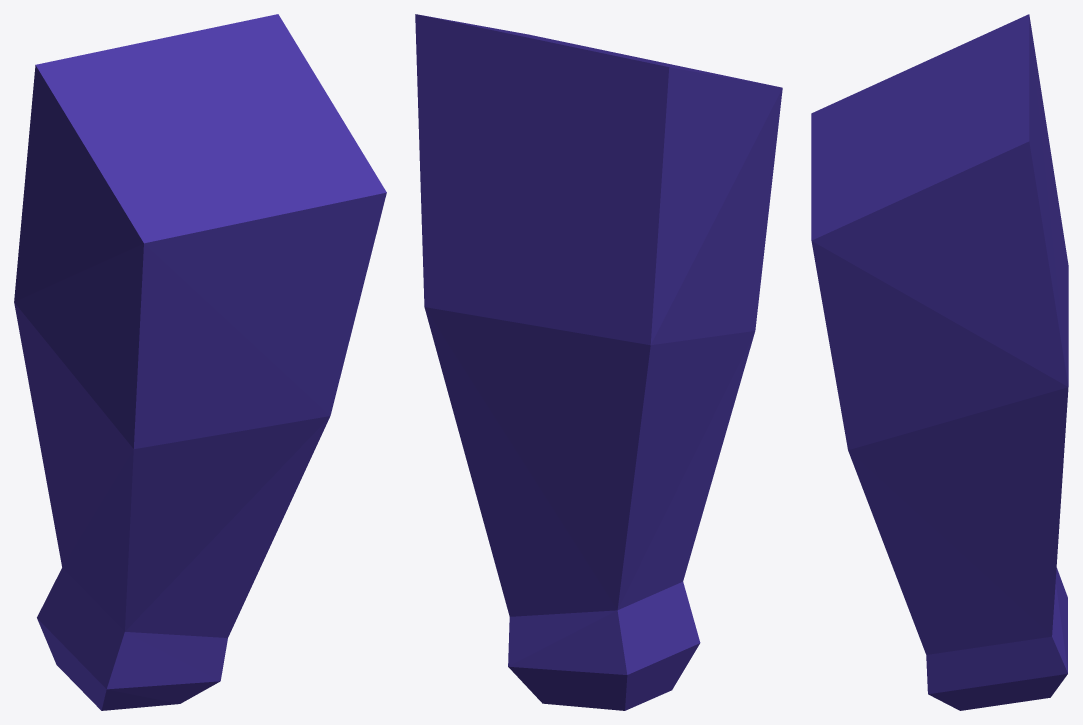
Rendered from left_upper_leg.dae.
The picture shows the model from 3 angles, left to right: view 1: azimuth 30°, elevation 25°; view 2: azimuth 150°, elevation 25°; view 3: azimuth 270°, elevation 25°; orthographic projection. The views are drawn at different scales.
Visible parts, largest first — view 1: left_upper_leg; view 2: left_upper_leg; view 3: left_upper_leg.
Part boxes in pixels (left/top/right/bottom): left_upper_leg: left=14, top=14, right=386, bottom=710; left_upper_leg: left=415, top=14, right=782, bottom=710; left_upper_leg: left=811, top=14, right=1068, bottom=710.
Size of the model in its own units: 0.1843 by 0.1671 by 0.4612.
